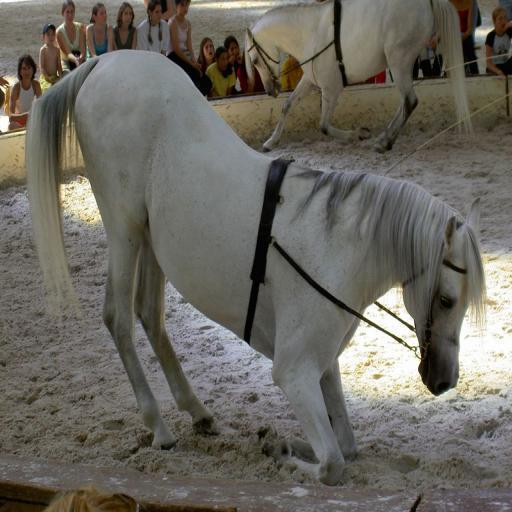horse: (25, 48, 487, 486), (244, 0, 474, 151)
